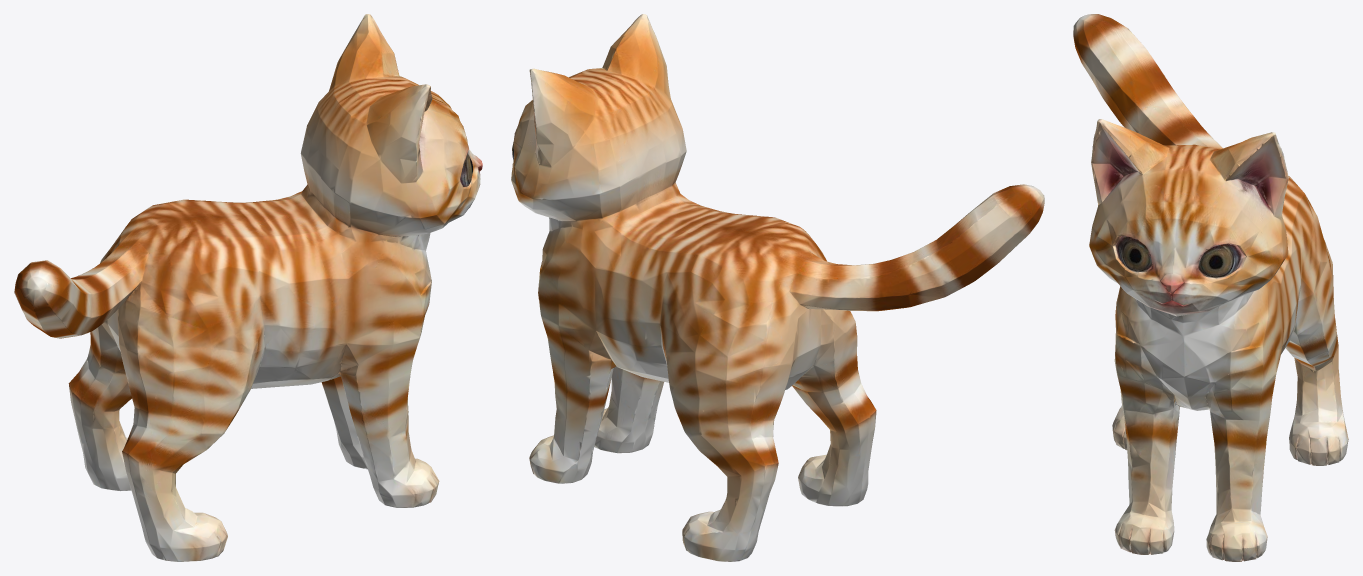
The model's file is WINDSOCK.glb.
The picture shows the model from 3 angles, left to right: view 1: azimuth 30°, elevation 25°; view 2: azimuth 150°, elevation 25°; view 3: azimuth 270°, elevation 25°; orthographic projection. The views are drawn at different scales.
Visible parts, largest first — view 1: fit; view 2: fit; view 3: fit.
Boxes of the visible parts, x1,y1,x2,y2 form: fit: (14,14,482,561); fit: (511,14,1044,561); fit: (1073,14,1348,561).
Bounding box in the file's own units: 1.22 × 0.9997 × 0.5884.
1 material, 1 textured.
